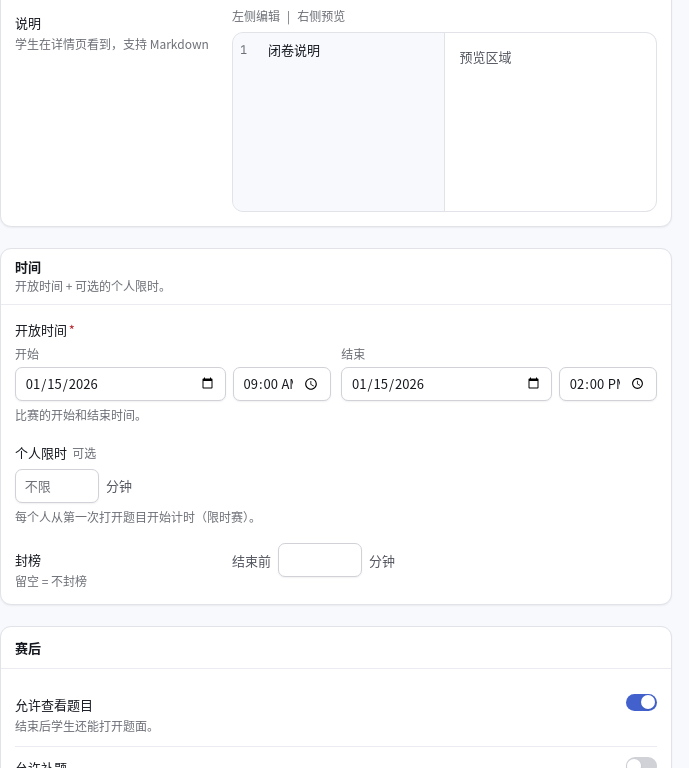
Test: contest and exam settings › does not post when the open window is missing a start time
(page scrolled)
Clear the date field named "开始日期" at (120, 384), box top-left (15, 367), bottom-right (226, 401)
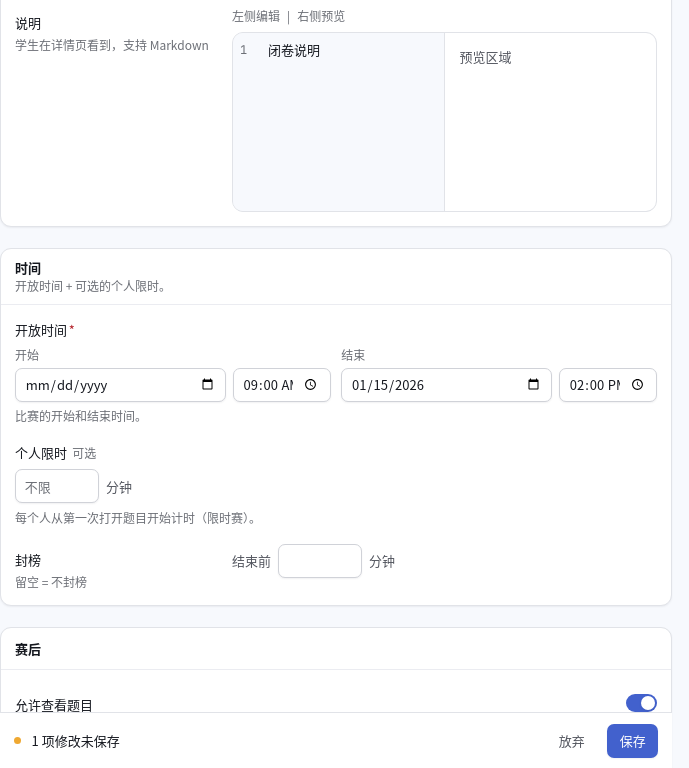
Click the button "保存".
click(633, 740)  # box top-left (608, 724), bottom-right (658, 758)
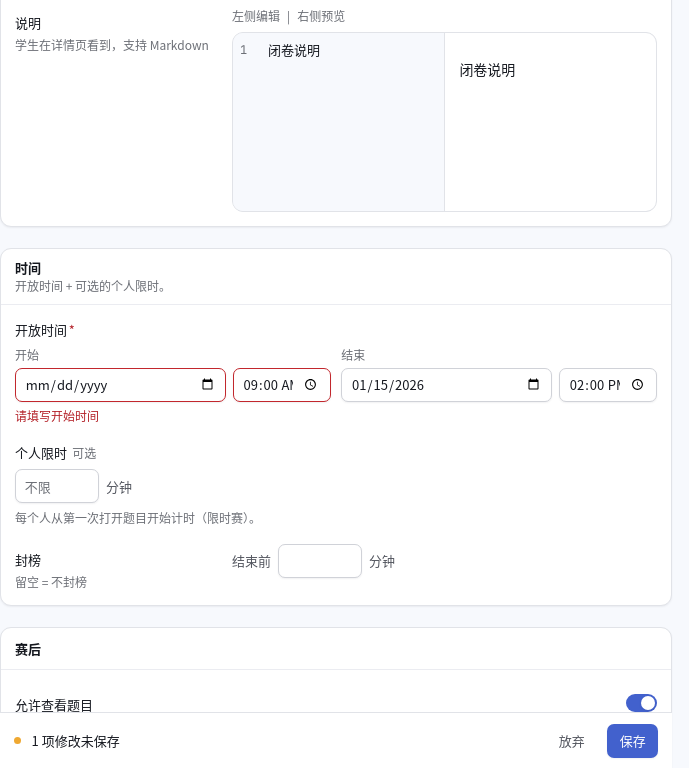
Result: the message "请填写开始时间" is shown at top-left (15, 407), bottom-right (99, 424)
